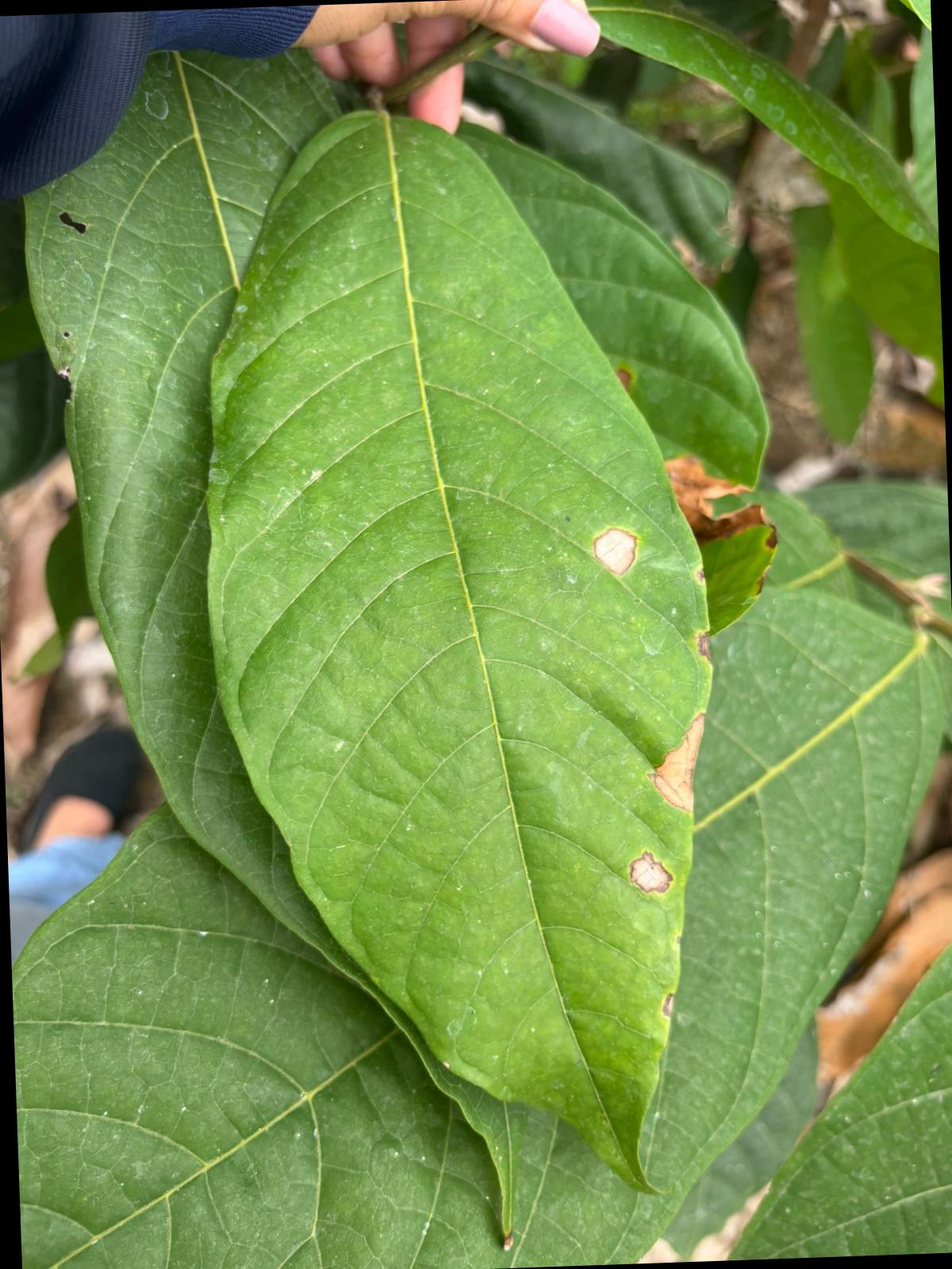Potasio: (209, 112, 708, 1192)
